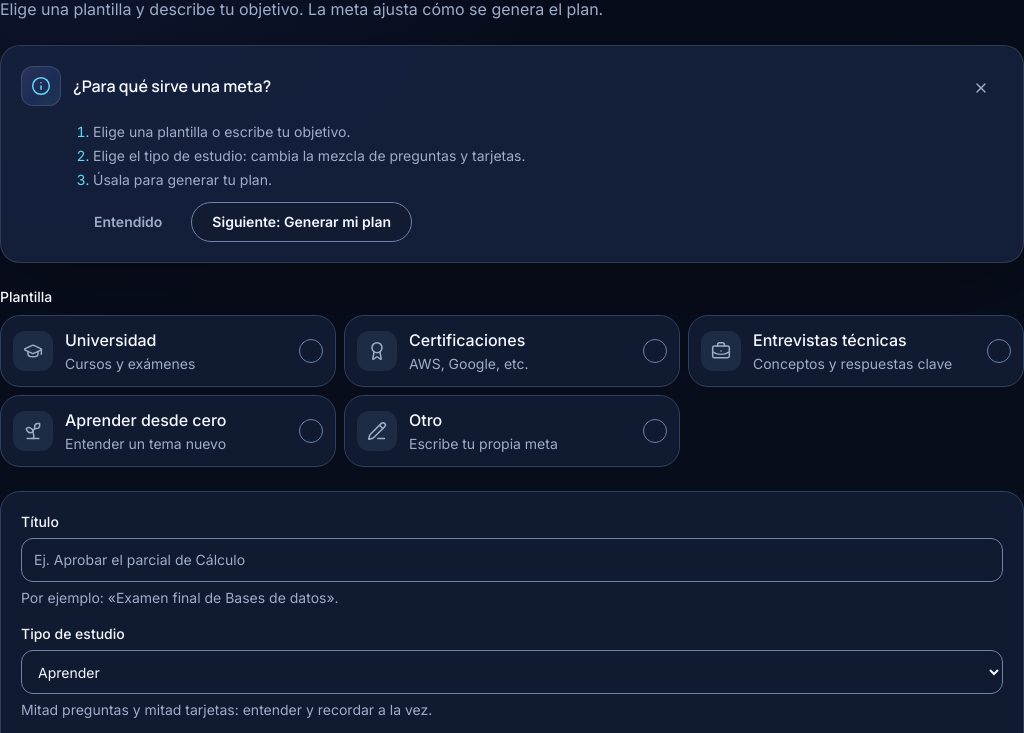
Test case: GoalsPage › shows a server creation error instead of announcing an unconfirmed save
The width and height of the screenshot is (1024, 733).
Click the button "Universidad Cursos y exámenes": (33, 351) [0,315,336,387]
(page scrolled)
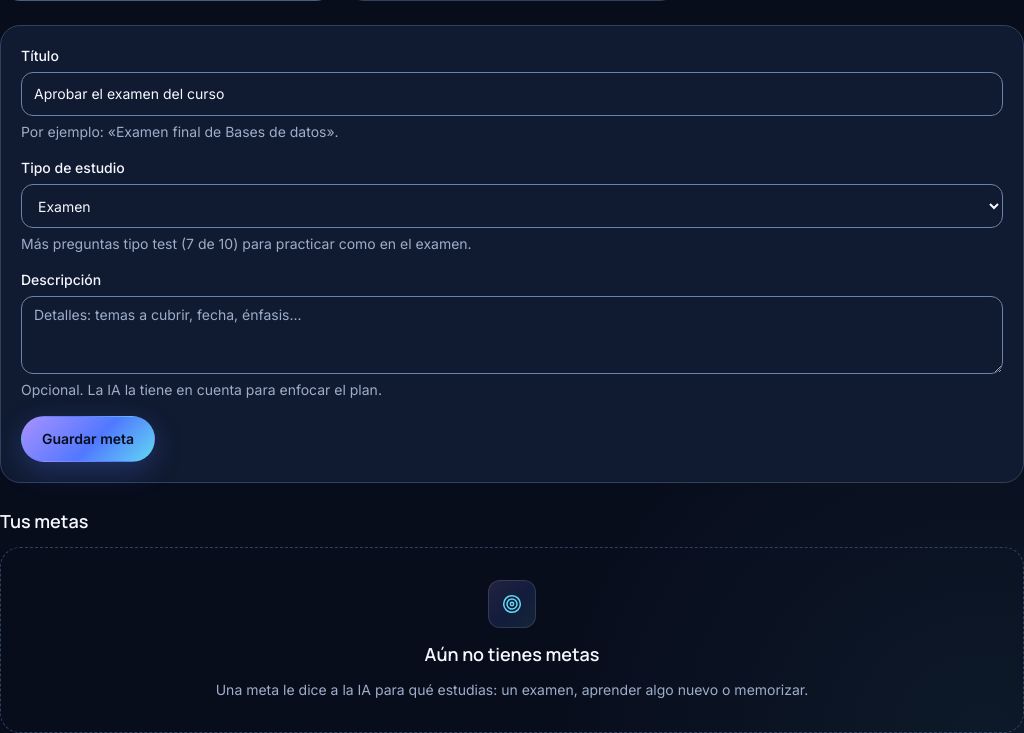
Click the button "Guardar meta": (88, 439) [21,416,155,462]
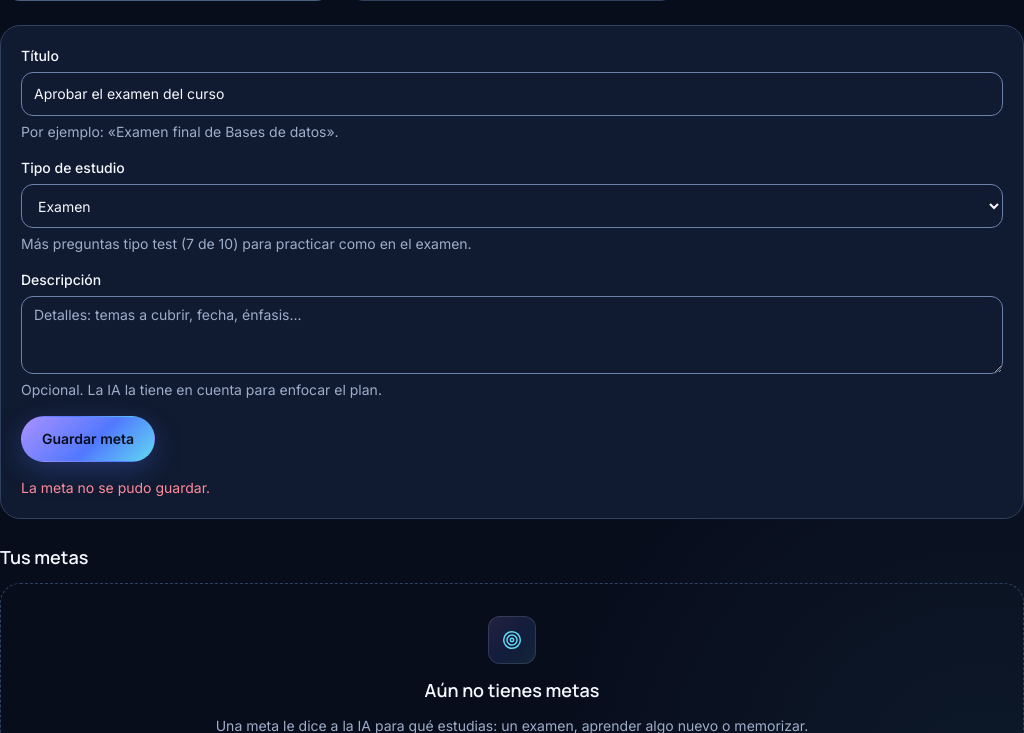
Now the message "La meta no se pudo guardar." is shown, box [21,479,210,496]
